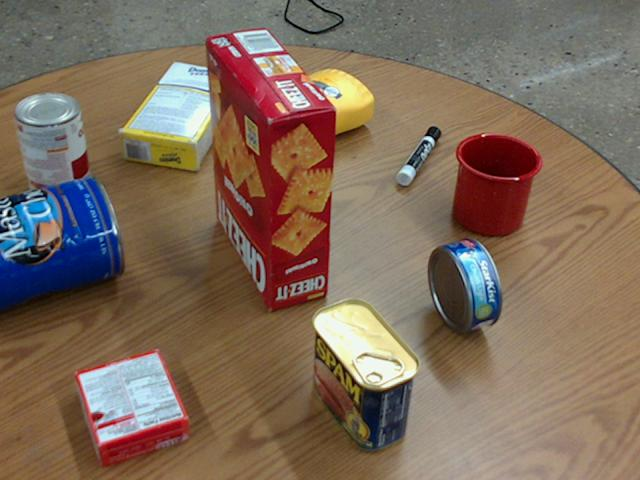cracker_box: (205, 28, 335, 309)
gelatin_box: (75, 348, 190, 465)
large_marker: (397, 126, 441, 184)
master_chef_can: (0, 174, 123, 310)
mug: (451, 132, 541, 235)
mustard_bottle: (232, 70, 373, 157)
potted_meat_can: (311, 298, 422, 451)
sugar_box: (119, 60, 240, 170)
tomato_soup_can: (14, 92, 91, 205)
tuna_fish_can: (429, 237, 501, 331)
